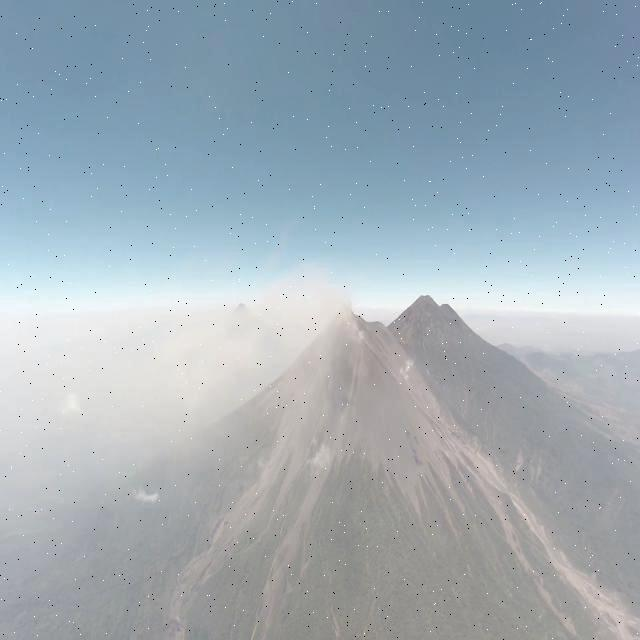Plume: (248, 252, 348, 372)
Summit: (328, 304, 366, 328)
